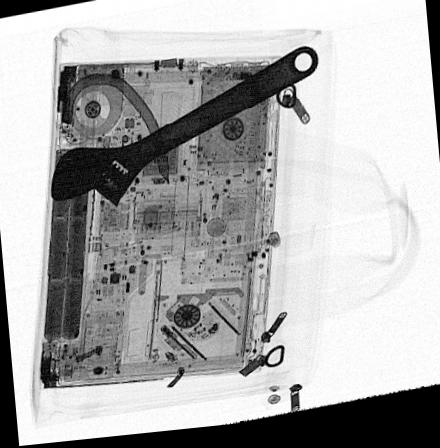Wrench: (49, 52, 320, 211)
